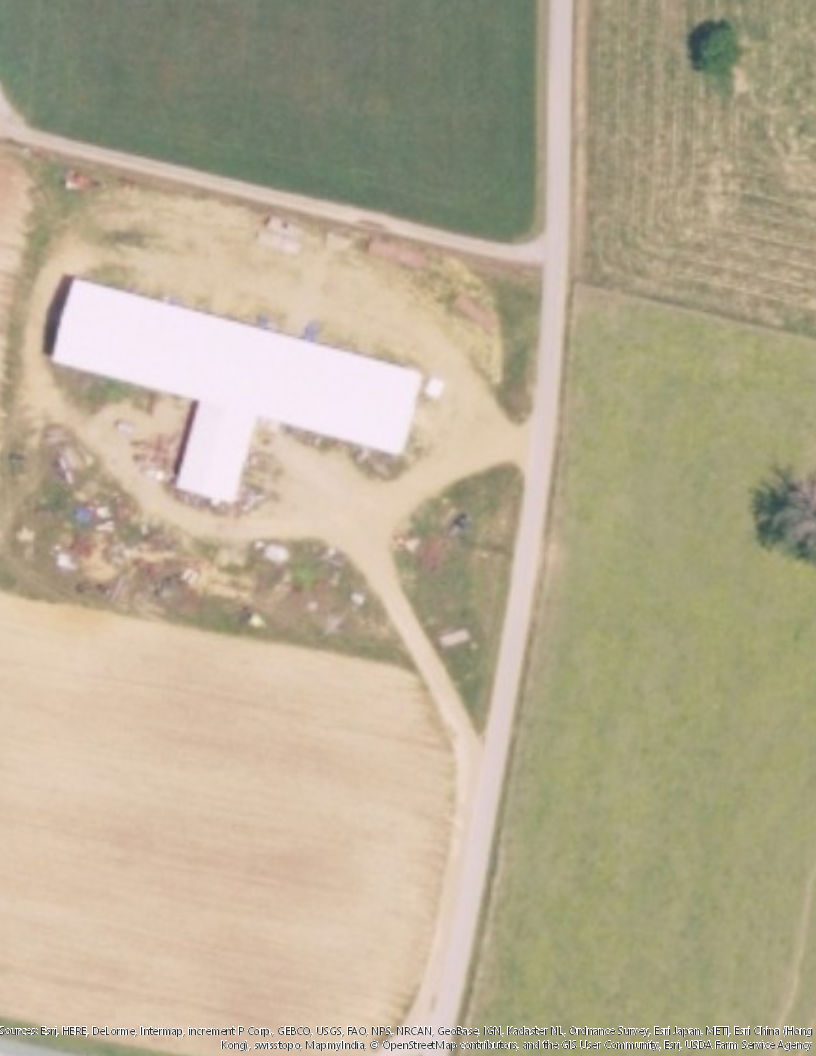cafo: (39, 268, 454, 523)
